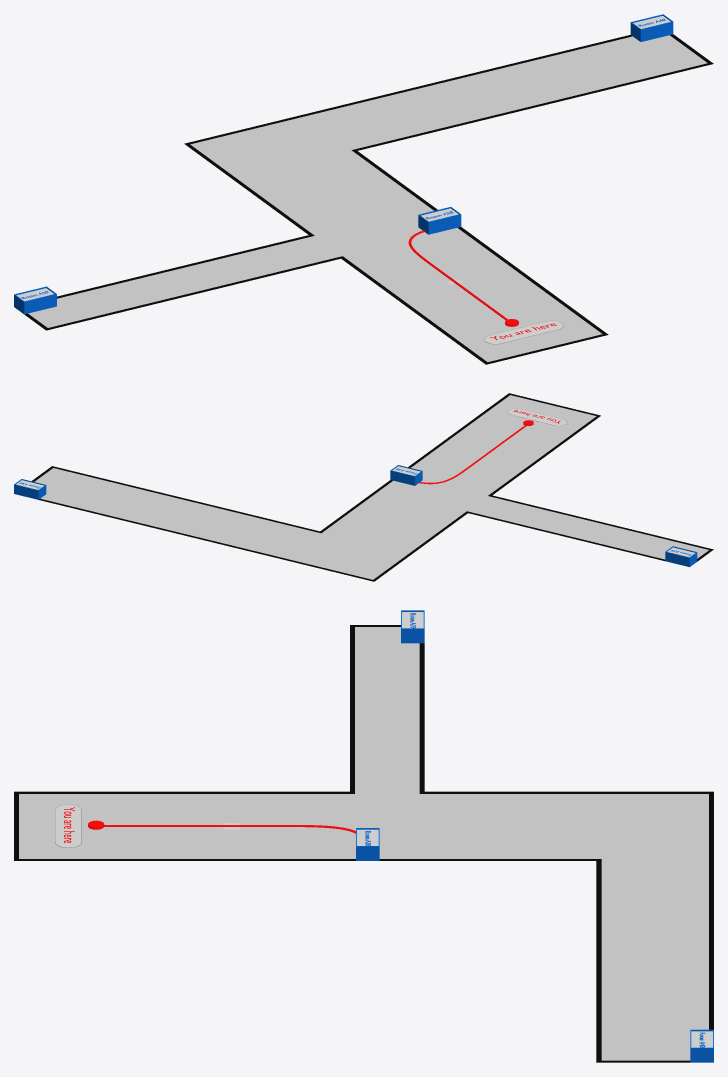
The model's file is Room A38.glb.
The picture shows the model from 3 angles, top to bottom: view 1: azimuth 30°, elevation 25°; view 2: azimuth 150°, elevation 25°; view 3: azimuth 270°, elevation 25°; orthographic projection. The views are drawn at different scales.
Visible parts, largest first — view 1: boden, a38, a40, a39.001, Sie sind hier-plane; view 2: boden, a39.001, a40, a38, Sie sind hier-plane; view 3: boden, Sie sind hier-plane, a39.001, a40, a38.
Boxes of the visible parts, <box> form: boden: <box>24,34,713,364</box>; a38: <box>418,207,461,234</box>; a40: <box>630,14,673,41</box>; a39.001: <box>14,286,56,314</box>; Sie sind hier-plane: <box>484,320,563,344</box>; boden: <box>31,393,713,581</box>; a39.001: <box>665,546,697,567</box>; a40: <box>14,479,46,499</box>; a38: <box>390,465,422,485</box>; Sie sind hier-plane: <box>507,408,567,425</box>; boden: <box>14,625,713,1062</box>; Sie sind hier-plane: <box>55,804,81,847</box>; a39.001: <box>401,610,424,643</box>; a40: <box>690,1029,713,1062</box>; a38: <box>356,828,379,860</box>.
Size of the model in its own units: 128 by 2.19 by 86.75.
